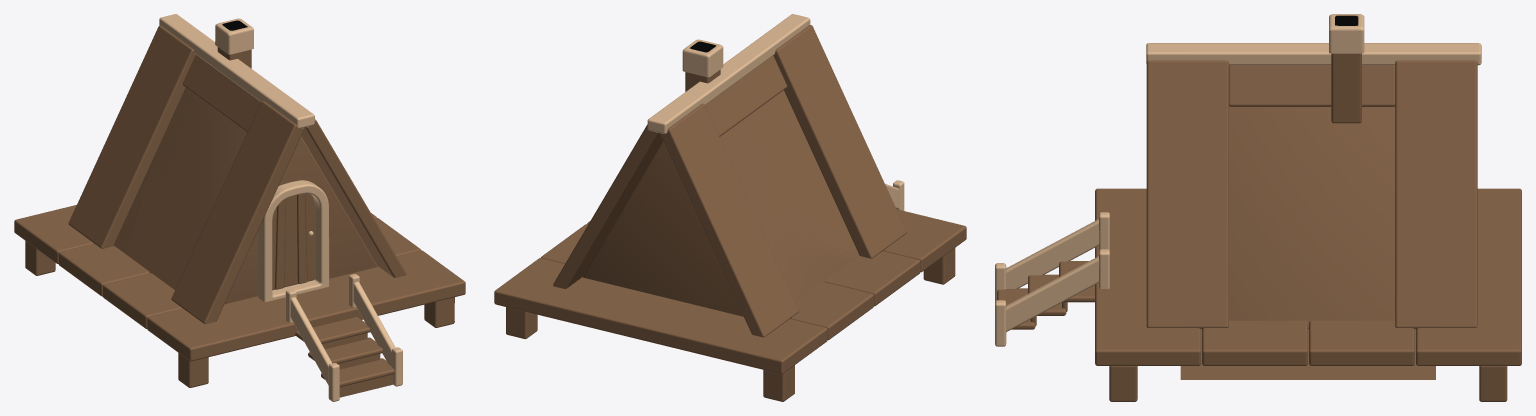
File: cabin.glb
The picture shows the model from 3 angles, left to right: view 1: azimuth 30°, elevation 25°; view 2: azimuth 150°, elevation 25°; view 3: azimuth 270°, elevation 25°; orthographic projection. The views are drawn at different scales.
Parts seen in each view (by area): view 1: Cube.001, Plane.001, Cube.005, Cube, Plane, Plane.002, Cube.004, Plane.004, Cube.002, Plane.008, Plane.003, Plane.005 (+3 smaller); view 2: Cube.001, Plane.001, Cube, Cube.005, Cube.004, Cube.002, Plane.003, Cube.006; view 3: Cube.001, Cube, Plane.001, Cube.004, Cube.002, Plane.008, Cube.007, Plane.003, Plane.004, Cube.006, Plane.006, Plane.007.
Boxes of the visible parts, x1=… form: Cube.001: x1=68, y1=25, x2=406, y2=323; Plane.001: x1=14, y1=205, x2=465, y2=361; Cube.005: x1=114, y1=88, x2=224, y2=289; Cube: x1=115, y1=88, x2=377, y2=304; Plane: x1=258, y1=180, x2=329, y2=301; Plane.002: x1=272, y1=193, x2=314, y2=289; Cube.004: x1=159, y1=14, x2=314, y2=128; Plane.004: x1=295, y1=317, x2=394, y2=387; Cube.002: x1=182, y1=55, x2=260, y2=132; Plane.008: x1=290, y1=282, x2=395, y2=385; Plane.003: x1=25, y1=241, x2=454, y2=387; Plane.005: x1=322, y1=333, x2=393, y2=397; Cube.001: x1=553, y1=25, x2=906, y2=337; Plane.001: x1=494, y1=209, x2=966, y2=374; Cube: x1=583, y1=140, x2=858, y2=316; Cube.005: x1=720, y1=90, x2=858, y2=272; Cube.004: x1=647, y1=14, x2=810, y2=133; Cube.002: x1=705, y1=55, x2=787, y2=136; Plane.003: x1=506, y1=248, x2=955, y2=401; Cube.006: x1=682, y1=39, x2=723, y2=77; Cube.001: x1=1146, y1=60, x2=1477, y2=329; Cube: x1=1229, y1=106, x2=1395, y2=328; Plane.001: x1=1095, y1=188, x2=1521, y2=379; Cube.004: x1=1146, y1=43, x2=1481, y2=65; Cube.002: x1=1229, y1=65, x2=1395, y2=106; Plane.008: x1=1005, y1=219, x2=1099, y2=332; Cube.007: x1=1331, y1=53, x2=1361, y2=123; Plane.003: x1=1109, y1=366, x2=1507, y2=401; Plane.004: x1=997, y1=261, x2=1094, y2=329; Cube.006: x1=1329, y1=14, x2=1364, y2=53; Plane.006: x1=995, y1=263, x2=1006, y2=346; Plane.007: x1=1099, y1=212, x2=1109, y2=288.
Size of the model in its own units: 3.02 by 2.71 by 4.13.
